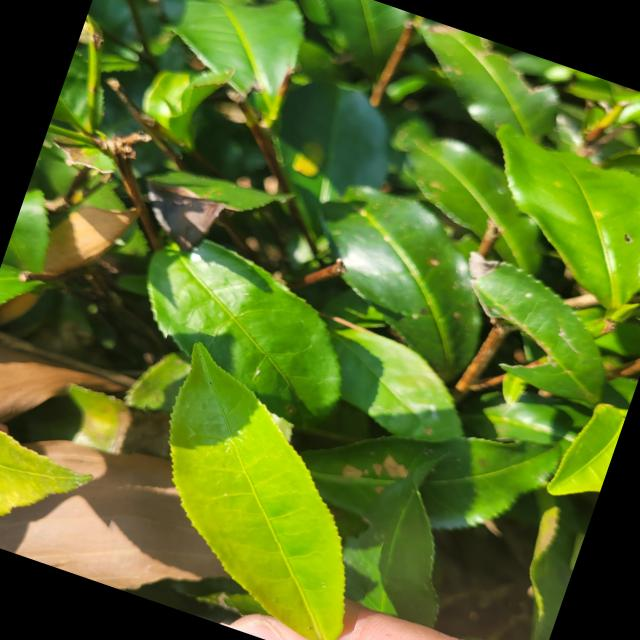Catagory A(1-2 days): (82, 321, 428, 640)
